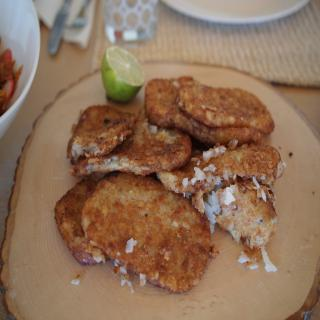Lemon: (102, 44, 145, 102)
